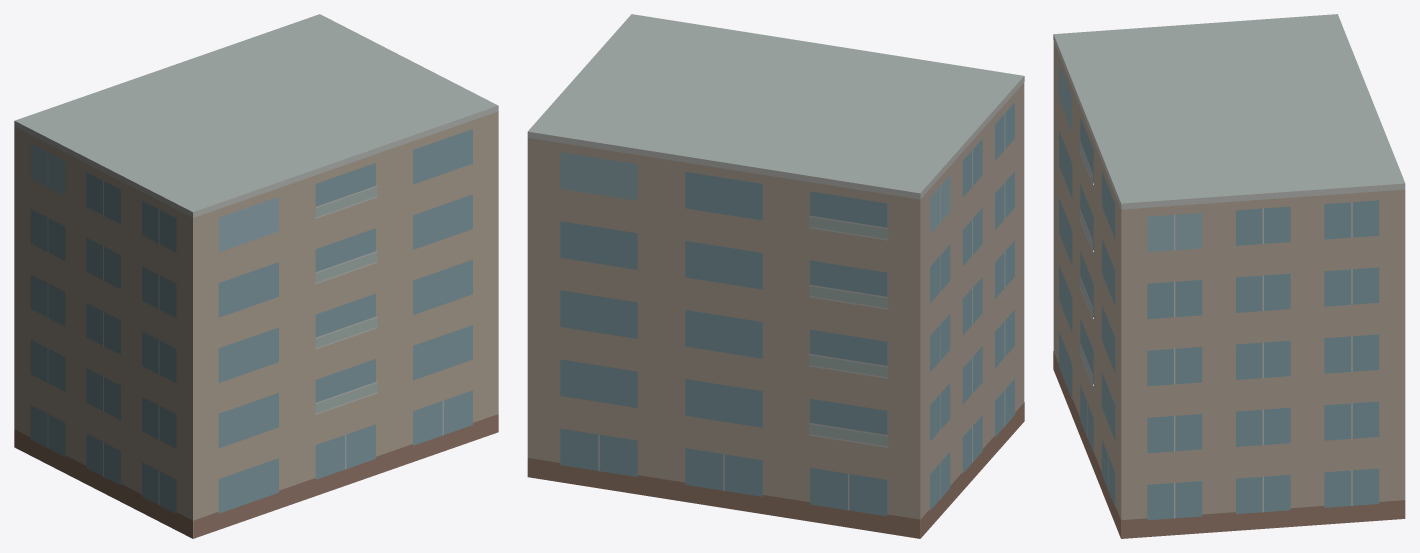
Rendered from survey-upis-32942742.glb.
The picture shows the model from 3 angles, left to right: view 1: azimuth 30°, elevation 25°; view 2: azimuth 150°, elevation 25°; view 3: azimuth 270°, elevation 25°; orthographic projection. The views are drawn at different scales.
Visible parts, largest first — view 1: survey-upis-32942742.tmp; view 2: survey-upis-32942742.tmp; view 3: survey-upis-32942742.tmp.
Boxes of the visible parts, x1=… form: survey-upis-32942742.tmp: x1=14, y1=14, x2=498, y2=538; survey-upis-32942742.tmp: x1=527, y1=14, x2=1024, y2=538; survey-upis-32942742.tmp: x1=1053, y1=14, x2=1405, y2=538.
Size of the model in its own units: 16.63 by 13.7 by 13.04.
